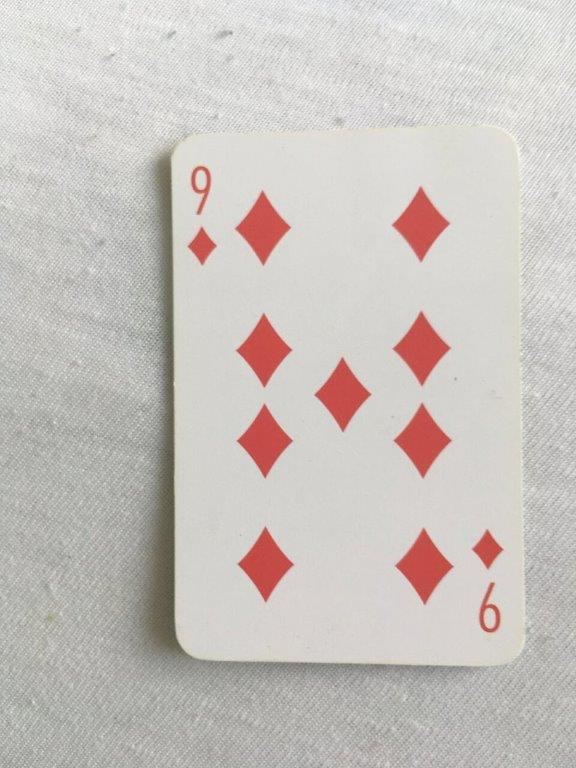9D: (166, 121, 530, 670)
